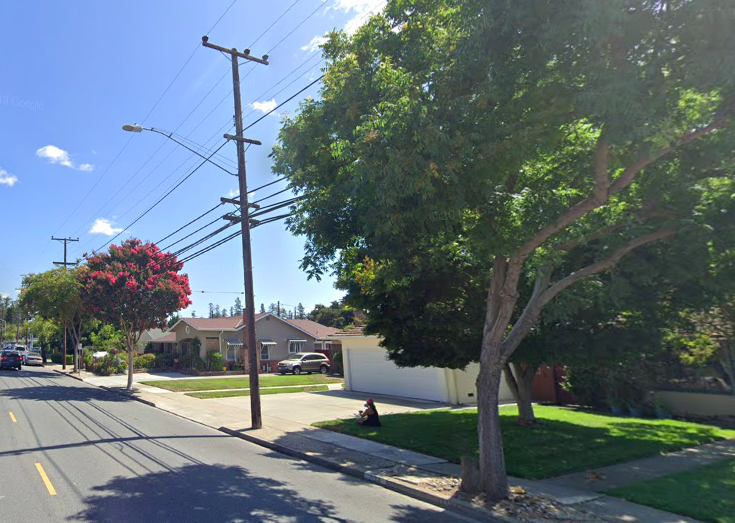tree: (269, 1, 735, 502), (74, 235, 193, 391)
utility_pole: (192, 19, 277, 163)
